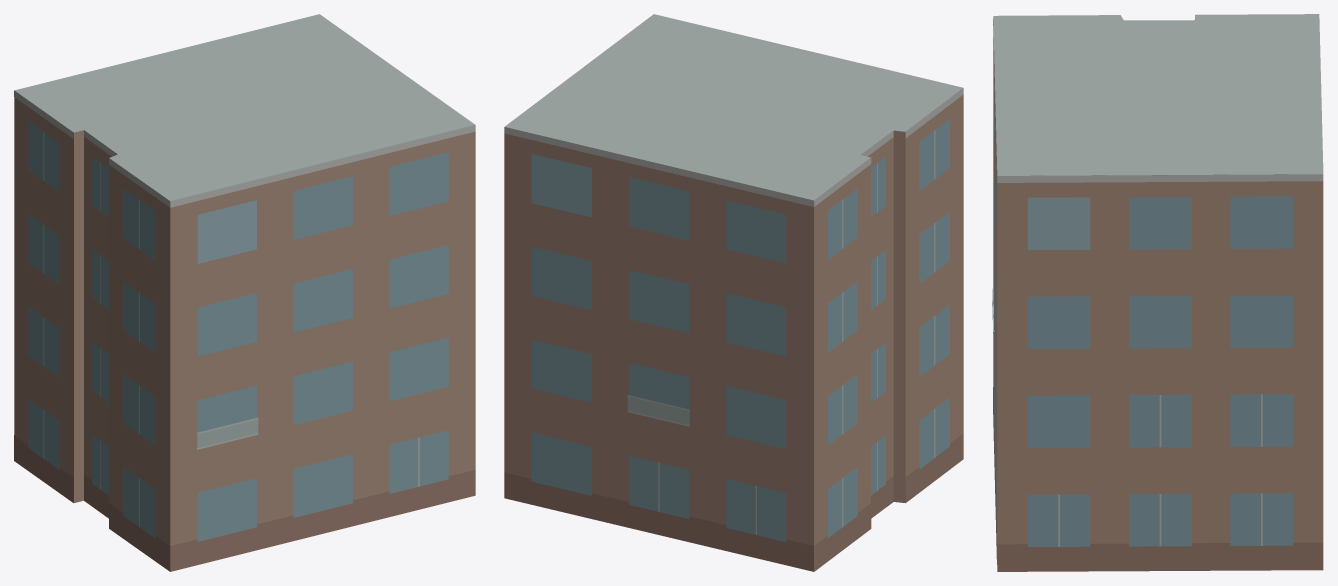
The model's file is survey-upis-33005873.glb.
3 renders of one model, left to right at view 1: azimuth 30°, elevation 25°; view 2: azimuth 150°, elevation 25°; view 3: azimuth 270°, elevation 25°, orthographic. The views are drawn at different scales.
Parts seen in each view (by area): view 1: survey-upis-33005873.tmp; view 2: survey-upis-33005873.tmp; view 3: survey-upis-33005873.tmp.
Boxes of the visible parts, box(x1,y1,x2,y2) form: survey-upis-33005873.tmp: box(14, 14, 475, 571); survey-upis-33005873.tmp: box(504, 14, 963, 571); survey-upis-33005873.tmp: box(992, 14, 1323, 571).
Size of the model in its own units: 12.12 by 13.8 by 10.46.
